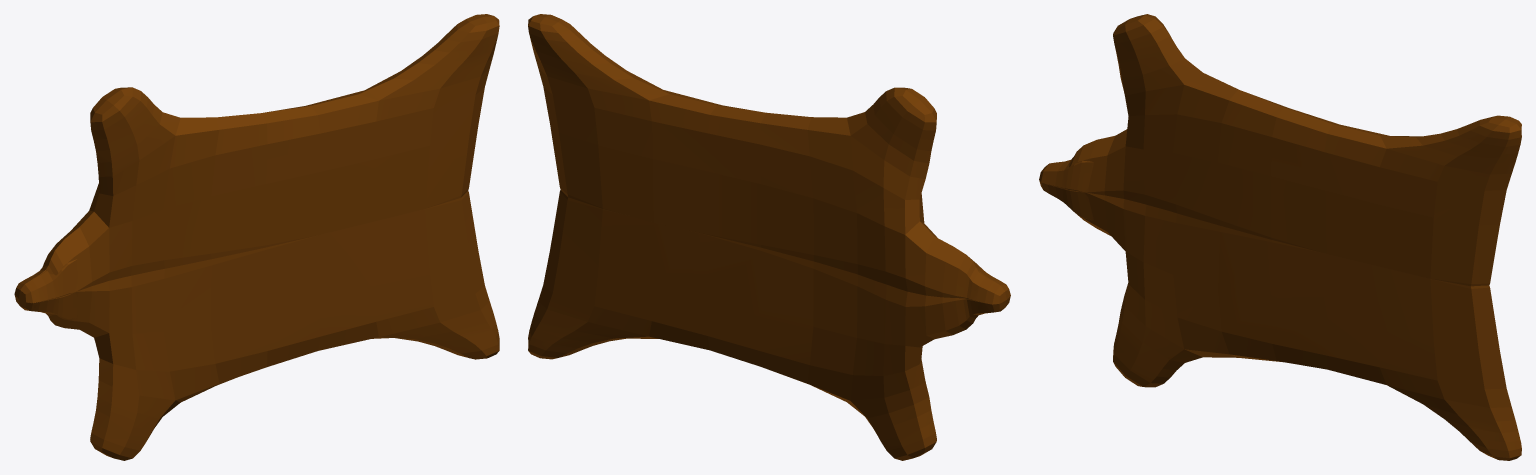
Rendered from bearfur.fbx.
The picture shows the model from 3 angles, left to right: view 1: azimuth 30°, elevation 25°; view 2: azimuth 150°, elevation 25°; view 3: azimuth 330°, elevation 25°; orthographic projection.
Parts seen in each view (by area): view 1: bearfur; view 2: bearfur; view 3: bearfur.
Part boxes in pixels (x1,y1,x2,y2): bearfur: (14, 14, 499, 460); bearfur: (528, 14, 1010, 460); bearfur: (1039, 14, 1521, 460).
Bounding box in the file's own units: 11606 × 8542 × 1190.
